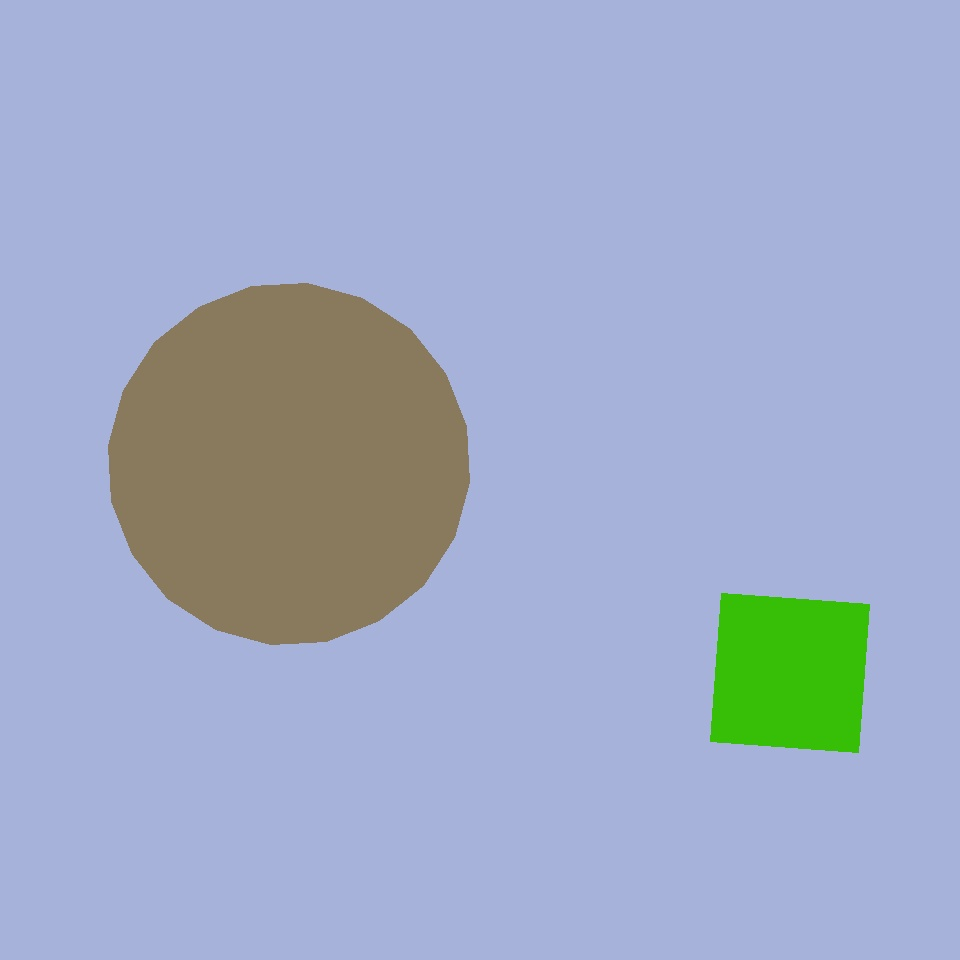circle: (146, 634, 315, 799)
square: (710, 594, 869, 752)
triangle: (108, 284, 469, 644), (684, 564, 886, 765)
